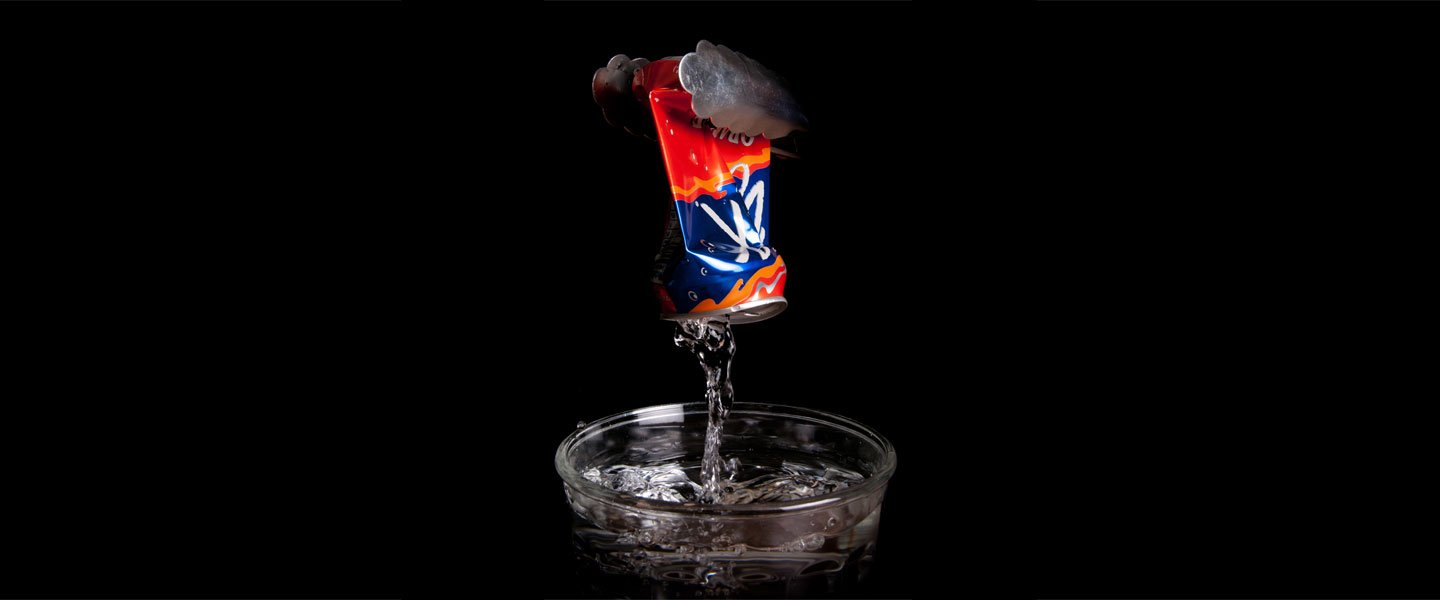can: (629, 53, 790, 327)
